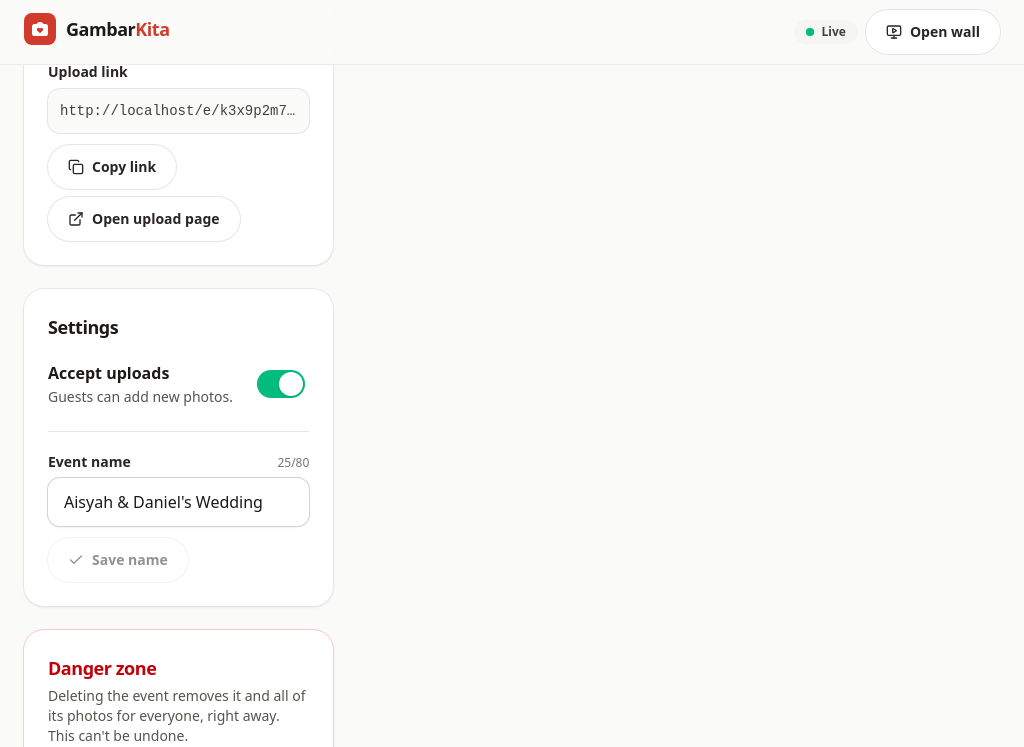
Test case: HostPage dashboard › closes uploads optimistically
(page scrolled)
Click the switch named "Accept uploads" at (281, 384), box [253, 362, 309, 406]
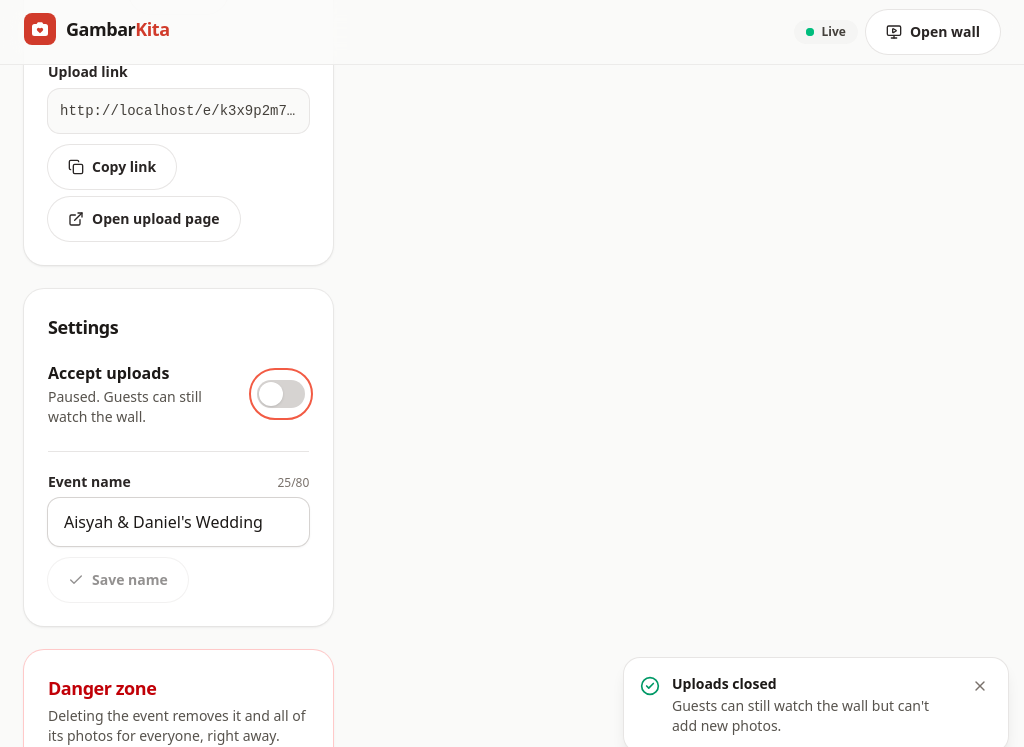
expect the text "Guests can still watch the wall but can't add new photos." is shown: met, box [672, 696, 946, 736]
